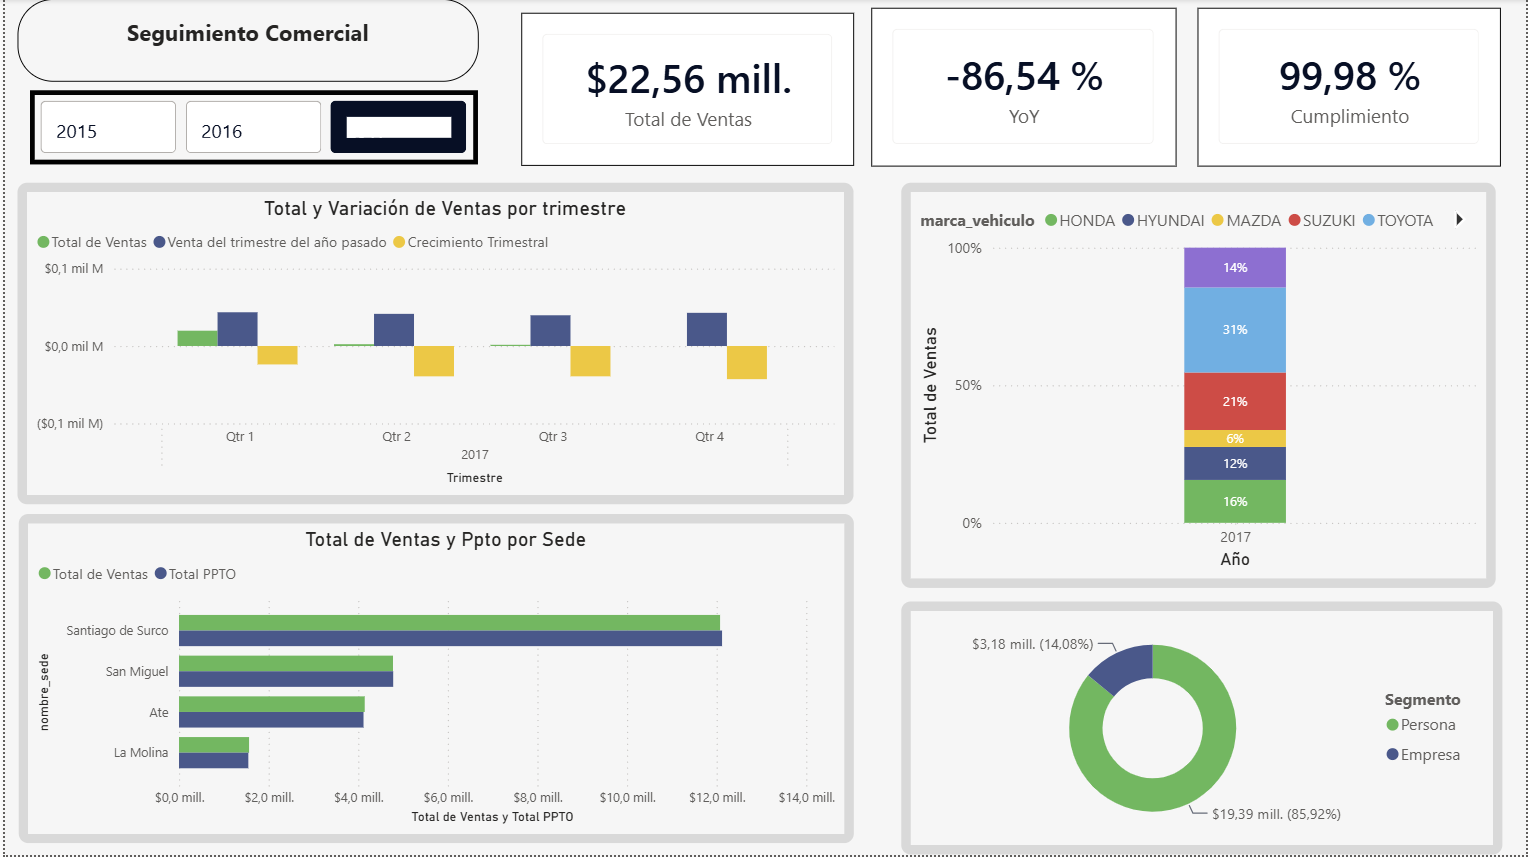

The page's visual inventory and layout, read from the dashboard file:
{"tool":"powerbi","page":{"name":"Sales","canvas":[1280,720],"ordinal":0},"visuals":[{"type":"textbox","box":[10.5,0,388,69.4],"z":0},{"type":"advancedSlicerVisual","fields":{"Values":["DimFechas.Año"]},"box":[21.3,77.2,377.1,62.7],"z":1000},{"type":"cardVisual","fields":{"Data":["Tabla_Medidas.Total de Ventas"]},"box":[433.7,11.6,280.2,129.1],"z":2000},{"type":"cardVisual","fields":{"Data":["Tabla_Medidas.YoY"]},"box":[728.6,7.4,256.5,133.5],"z":3000},{"type":"cardVisual","fields":{"Data":["Tabla_Medidas.Cumplimiento"]},"box":[1003,7.4,255.5,133.5],"z":4000},{"type":"clusteredColumnChart","title":"Total y Variación de Ventas por trimestre","fields":{"Y":["Tabla_Medidas.Total de Ventas","Tabla_Medidas.Venta del trimestre del año pasado","Tabla_Medidas.Crecimiento Trimestral"],"Category":["DimFechas.Date.Variación.Jerarquía de fechas.Año","DimFechas.Date.Variación.Jerarquía de fechas.Trimestre"]},"box":[10.5,154.6,703.4,270.2],"z":5000},{"type":"donutChart","fields":{"Y":["Tabla_Medidas.Total de Ventas"],"Category":["Fact_Ventas.Segmento"]},"box":[752.8,154.6,499.4,270.2],"z":6000},{"type":"clusteredBarChart","title":"Total de Ventas y Ppto por Sede","fields":{"Y":["Tabla_Medidas.Total de Ventas","fact_Presupuestos.Total PPTO"],"Category":["dim_sede.nombre_sede"]},"box":[11.6,433.2,702.3,276.5],"z":7000},{"type":"hundredPercentStackedColumnChart","title":"Total de Ventas por Marca","fields":{"Category":["DimFechas.Date.Variación.Jerarquía de fechas.Año","DimFechas.Date.Variación.Jerarquía de fechas.Trimestre"],"Y":["Tabla_Medidas.Total de Ventas"],"Series":["dim_vehiculo.marca_vehiculo"]},"box":[753,433,499,277],"z":8000}]}

Visuals, with their boxes in screenshot pixels (x1, y1, x2, y2), scaled from the page's 1280x720 canvas onto the 1528x857 screenshot:
textbox: bbox=(13, 0, 476, 83)
advancedSlicerVisual - DimFechas.Año: bbox=(25, 92, 476, 167)
cardVisual - Tabla_Medidas.Total de Ventas: bbox=(518, 14, 852, 167)
cardVisual - Tabla_Medidas.YoY: bbox=(870, 9, 1176, 168)
cardVisual - Tabla_Medidas.Cumplimiento: bbox=(1197, 9, 1502, 168)
"Total y Variación de Ventas por trimestre" clusteredColumnChart: bbox=(13, 184, 852, 506)
donutChart - Tabla_Medidas.Total de Ventas x Fact_Ventas.Segmento: bbox=(899, 184, 1495, 506)
"Total de Ventas y Ppto por Sede" clusteredBarChart: bbox=(14, 516, 852, 845)
"Total de Ventas por Marca" hundredPercentStackedColumnChart: bbox=(899, 515, 1495, 845)
